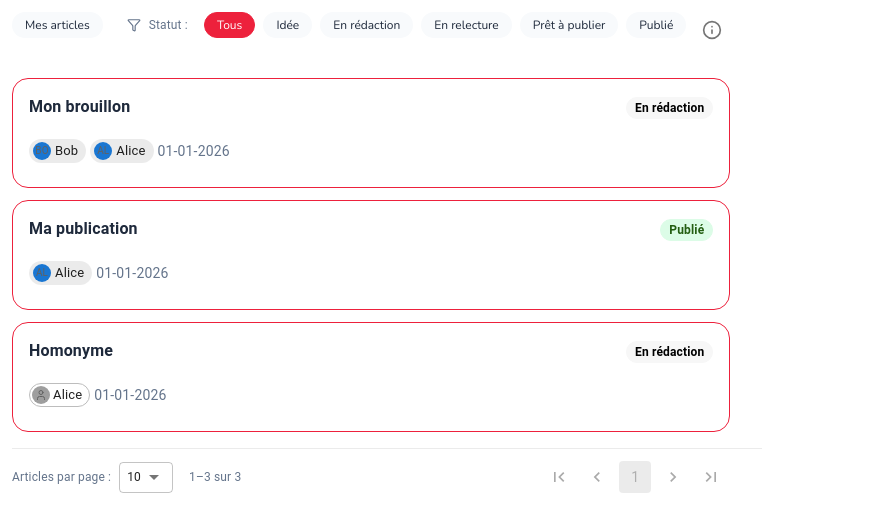
Scenario: Mes articles › inclut les coauteurs par email et cumule le statut pour ADMIN
Check: the text "Homonyme" is shown, box top-left (29, 339), bottom-right (113, 363)
Click the button "Mes articles": (57, 25) top-left (12, 12), bottom-right (103, 38)
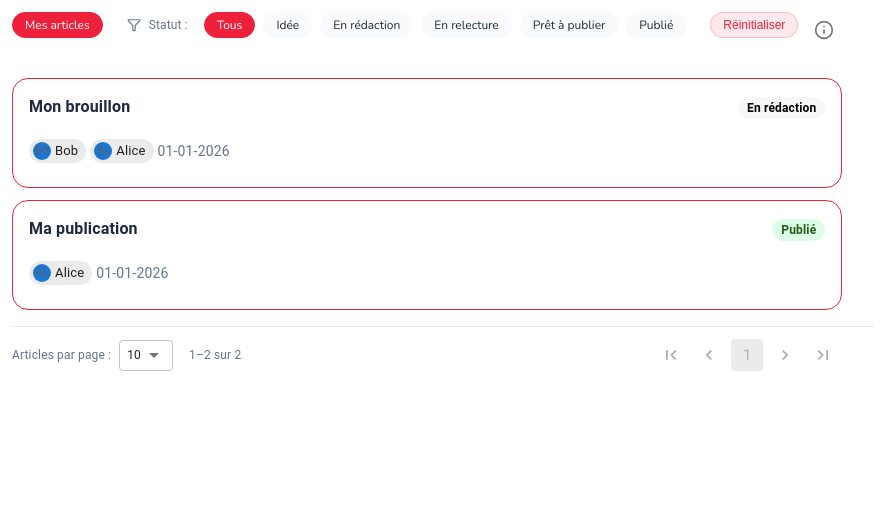
Check: the text "Mon brouillon" is shown, box top-left (29, 95), bottom-right (130, 119)
Check: the text "Homonyme" is gone
Click the button "En rédaction": (367, 25) top-left (320, 12), bottom-right (413, 38)
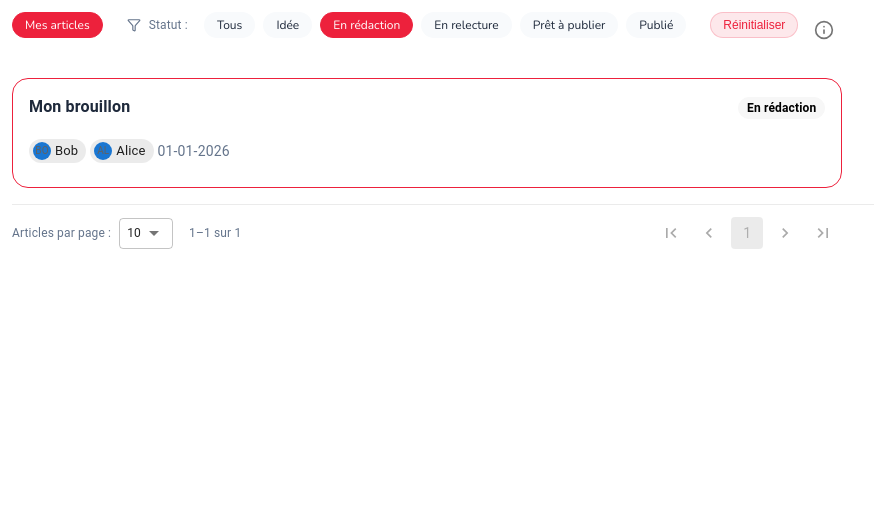
Check: the text "Ma publication" is gone
Click the button "Réinitialiser": (754, 25) top-left (710, 12), bottom-right (798, 38)
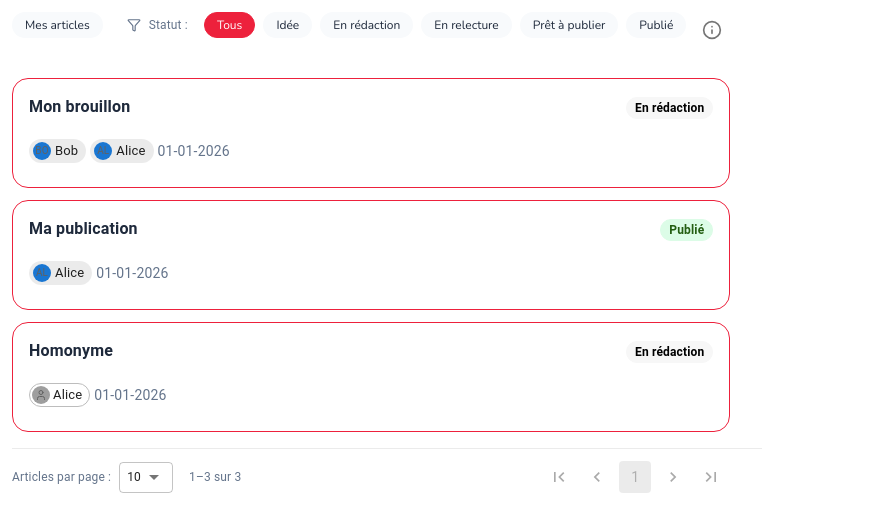
Check: the text "Homonyme" is shown, box top-left (29, 339), bottom-right (113, 363)
Check: the text "Ma publication" is shown, box top-left (29, 217), bottom-right (138, 241)
